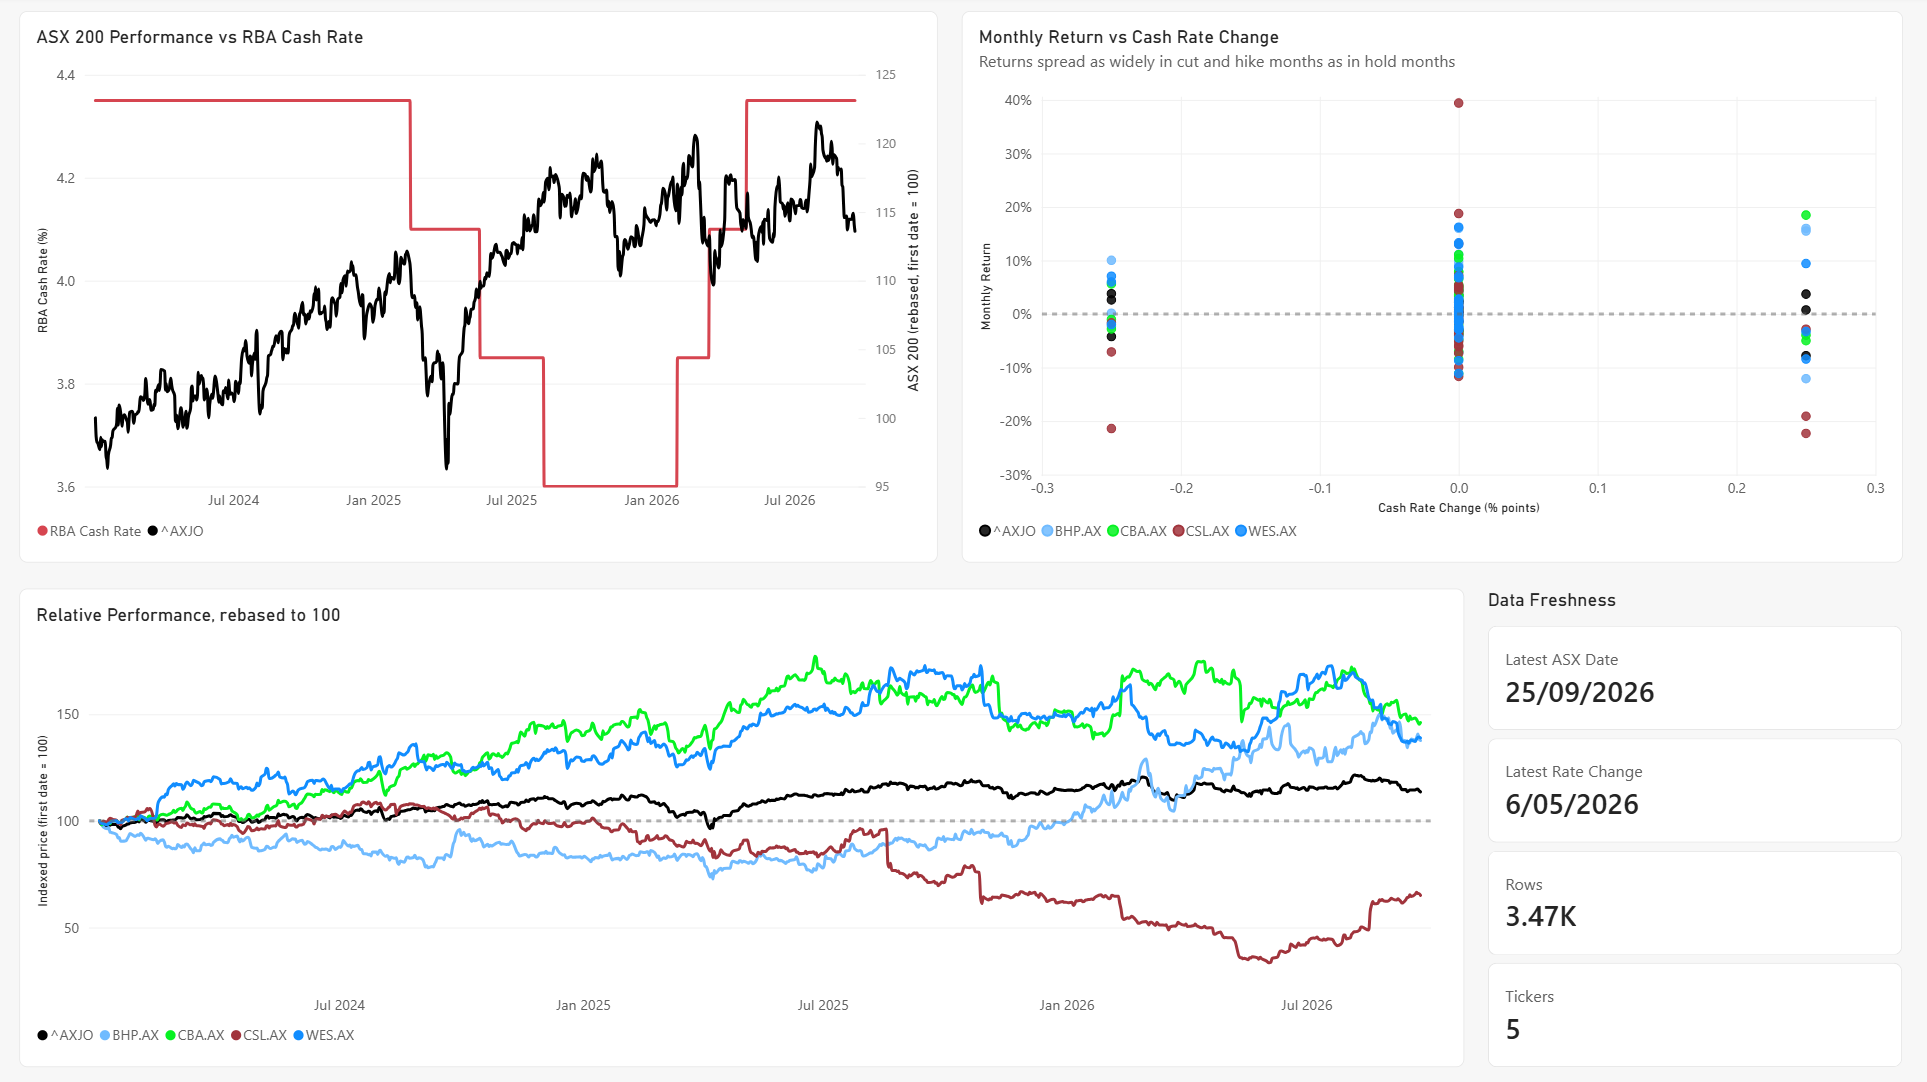

This screenshot's page, from the dashboard's own definition file:
{"tool":"powerbi","page":{"name":"Page 1","canvas":[1920,1080],"ordinal":0},"visuals":[{"type":"lineChart","title":"ASX 200 Performance vs RBA Cash Rate","fields":{"Category":["fct_rate_vs_market.asx_date"],"Y":["Avg(fct_rate_vs_market.cash_rate_target)"],"Y2":["fct_rate_vs_market.AXJO Rebased"]},"box":[30.9,14.8,907.4,544.4],"z":0},{"type":"lineChart","title":"Relative Performance, rebased to 100","fields":{"Category":["fct_rate_vs_market.asx_date"],"Series":["fct_rate_vs_market.ticker"],"Y":["fct_rate_vs_market.Rebased Close"]},"box":[30.9,585.2,1427.2,472.8],"z":1000},{"type":"scatterChart","title":"Monthly Return vs Cash Rate Change","fields":{"Category":["fct_monthly_returns.month_start_date"],"Series":["fct_monthly_returns.ticker"],"X":["Avg(fct_monthly_returns.rate_change_pp)"],"Y":["Avg(fct_monthly_returns.monthly_return)"]},"box":[961.7,14.8,929.6,544.4],"z":2000},{"type":"cardVisual","title":"Data Freshness","fields":{"Data":["Max(fct_rate_vs_market.asx_date)","Max(fct_rate_vs_market.rba_date)","CountNonNull(fct_rate_vs_market.ticker)","Count(fct_rate_vs_market.ticker)"]},"box":[1481.5,585.2,409.9,472.8],"z":2001}]}

Visuals, with their boxes in screenshot pixels (x1, y1, x2, y2), scaled from the page's 1920x1080 canvas onto the 1927x1082 screenshot:
"ASX 200 Performance vs RBA Cash Rate" lineChart: 31/15/942/560
"Relative Performance, rebased to 100" lineChart: 31/586/1463/1060
"Monthly Return vs Cash Rate Change" scatterChart: 965/15/1898/560
"Data Freshness" cardVisual: 1487/586/1898/1060
